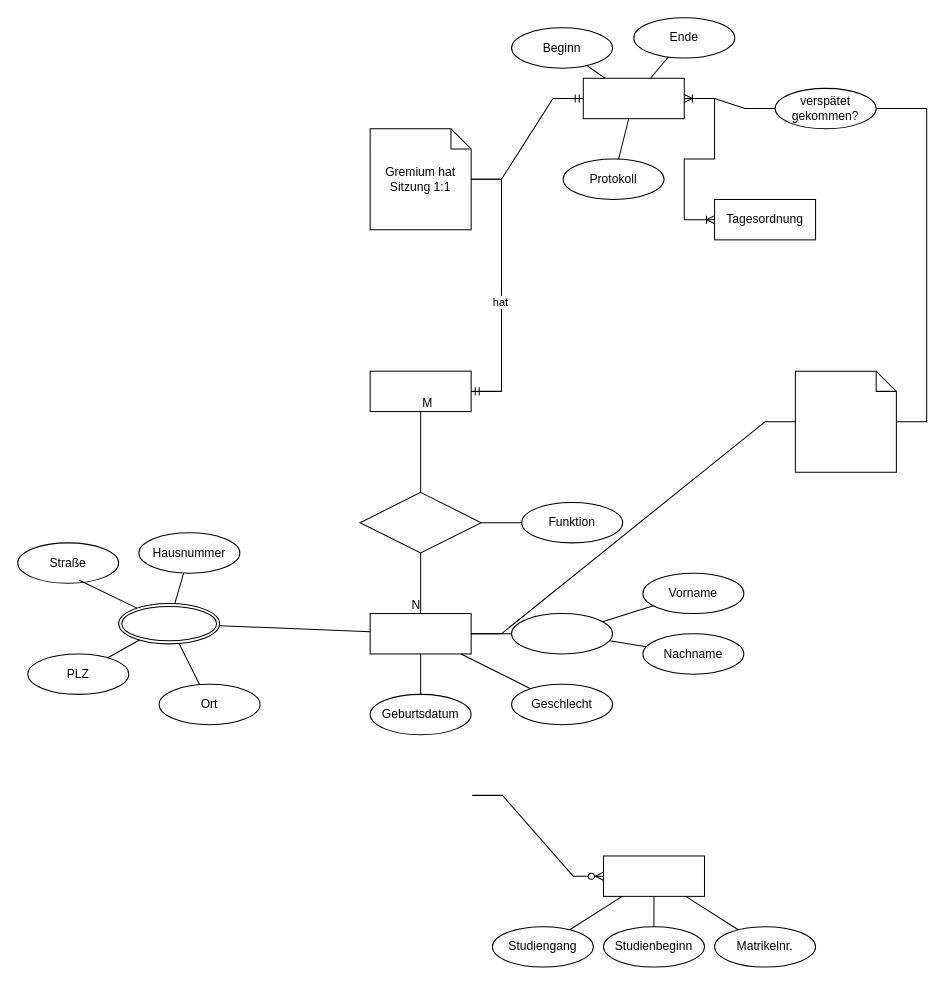
Image size: 945x985. Some labels were removed from this diagram. Here are the shapes that lost their labels. From the top down, the centre of each, then its label:
pixel 633 98: Sitzungen
pixel 420 391: Gremien
pixel 845 421: 1 oder mehrere Personen nehmen an einer Sitzung teil
pixel 420 522: Mitglieder
pixel 169 623: Adresse
pixel 420 633: Personen
pixel 562 633: Name
pixel 653 875: Student
